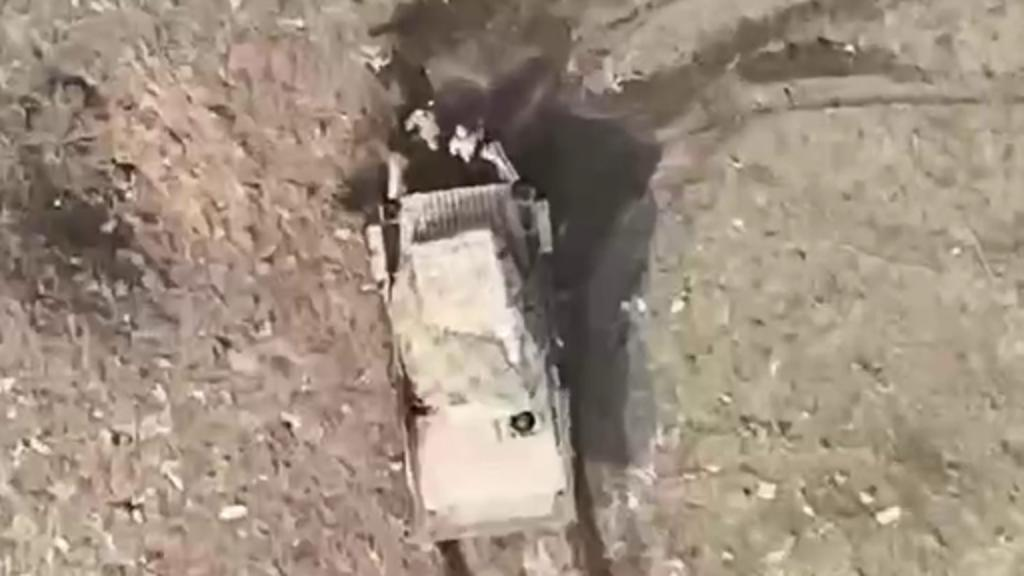APC-IFV: (350, 162, 598, 552)
